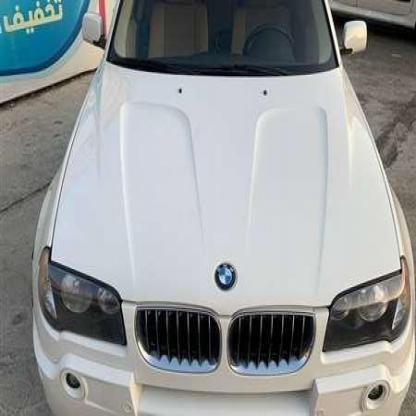Car: (31, 0, 416, 416)
